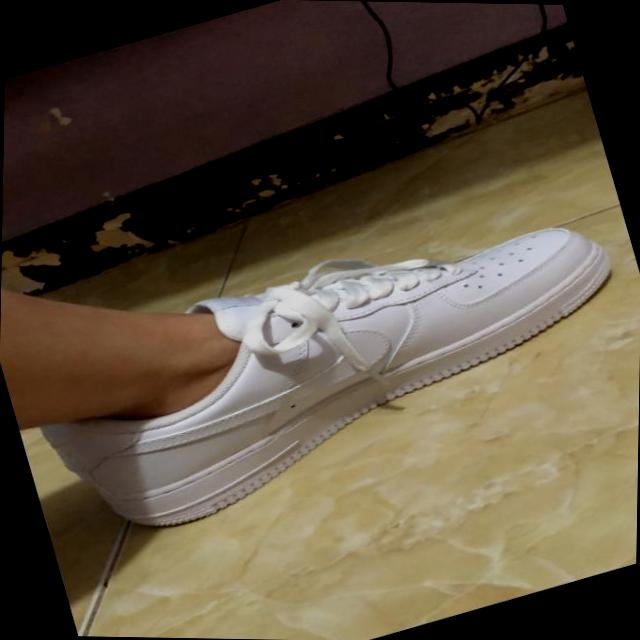nike_original_airforce: (13, 171, 640, 565)
